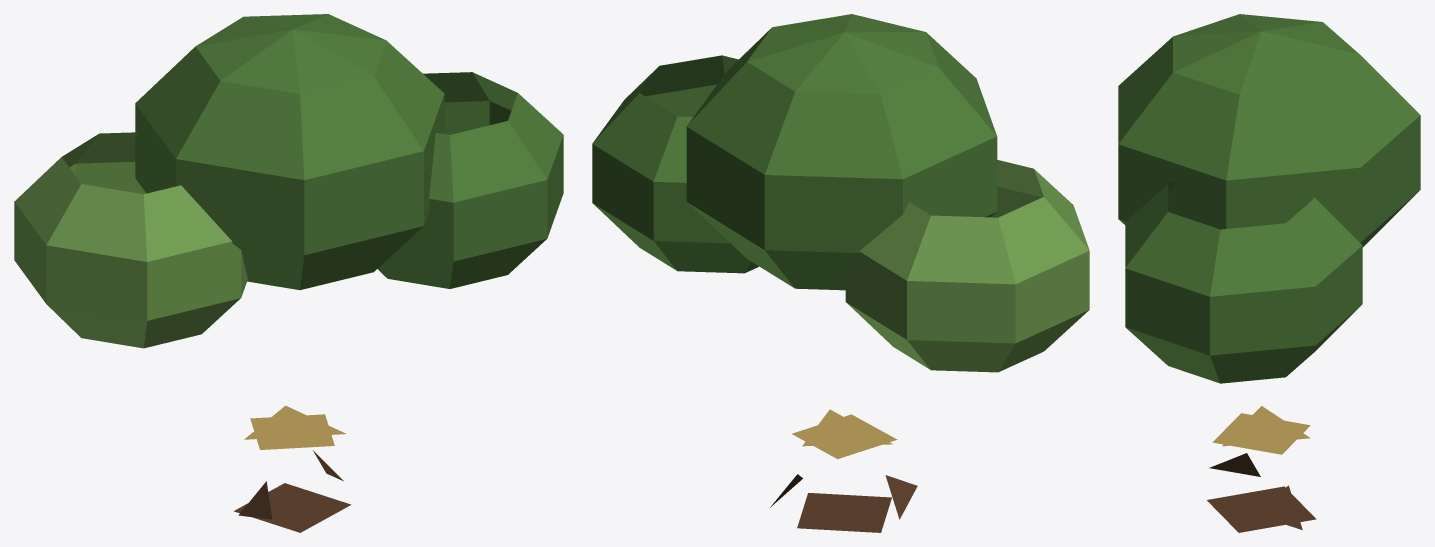
Rendered from prop_old_tree_lod1.glb.
The picture shows the model from 3 angles, left to right: view 1: azimuth 30°, elevation 25°; view 2: azimuth 150°, elevation 25°; view 3: azimuth 270°, elevation 25°; orthographic projection.
Parts seen in each view (by area): view 1: prop_old_tree_lod1; view 2: prop_old_tree_lod1; view 3: prop_old_tree_lod1.
Part boxes in pixels (left/top/right/bottom): prop_old_tree_lod1: left=14, top=14, right=563, bottom=532; prop_old_tree_lod1: left=592, top=14, right=1089, bottom=532; prop_old_tree_lod1: left=1118, top=14, right=1420, bottom=532.
Bounding box in the file's own units: 9.48 × 8.84 × 5.06.
